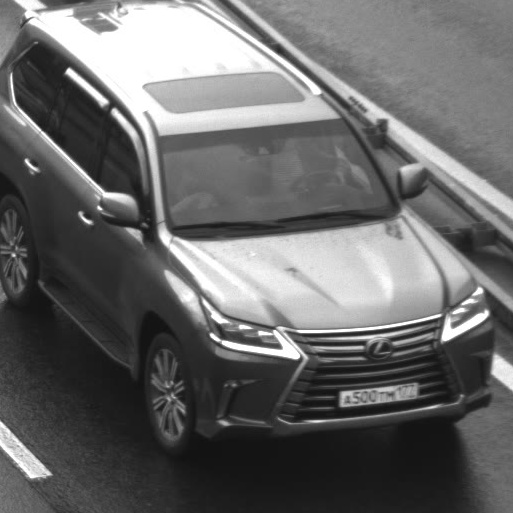plate: (329, 372, 428, 415)
